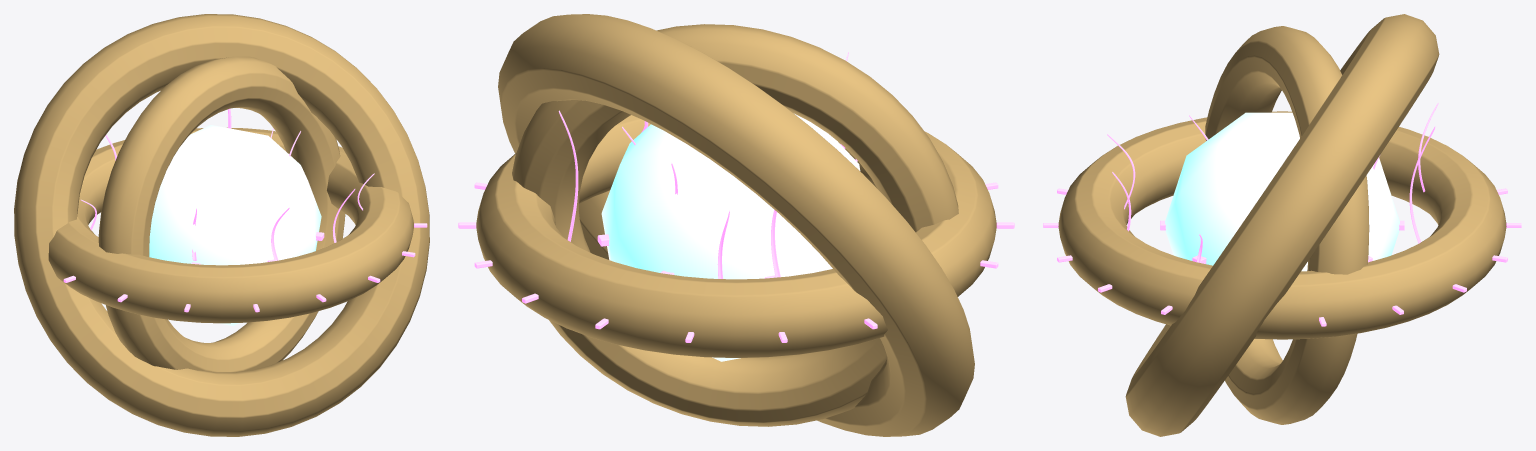
3 renders of one model, left to right at view 1: azimuth 30°, elevation 25°; view 2: azimuth 150°, elevation 25°; view 3: azimuth 270°, elevation 25°, orthographic. The views are drawn at different scales.
Parts seen in each view (by area): view 1: orbital_ring_diagonal, orbital_ring_vertical, orbital_ring_primary, energy_core; view 2: orbital_ring_diagonal, orbital_ring_vertical, orbital_ring_primary, energy_core; view 3: orbital_ring_primary, orbital_ring_diagonal, orbital_ring_vertical, energy_core.
Boxes of the visible parts, left/top/right/bottom form: orbital_ring_diagonal: left=14, top=14, right=429, bottom=436; orbital_ring_vertical: left=98, top=56, right=345, bottom=372; orbital_ring_primary: left=48, top=127, right=413, bottom=323; energy_core: left=149, top=125, right=321, bottom=325; orbital_ring_diagonal: left=498, top=14, right=974, bottom=436; orbital_ring_vertical: left=512, top=24, right=958, bottom=426; orbital_ring_primary: left=476, top=115, right=996, bottom=357; energy_core: left=601, top=113, right=860, bottom=361; orbital_ring_primary: left=1058, top=111, right=1506, bottom=339; orbital_ring_diagonal: left=1125, top=14, right=1439, bottom=436; orbital_ring_vertical: left=1205, top=26, right=1369, bottom=424; energy_core: left=1165, top=112, right=1399, bottom=271.
Size of what is drawn, in the model's own units: 4.07 by 3.67 by 4.03.
